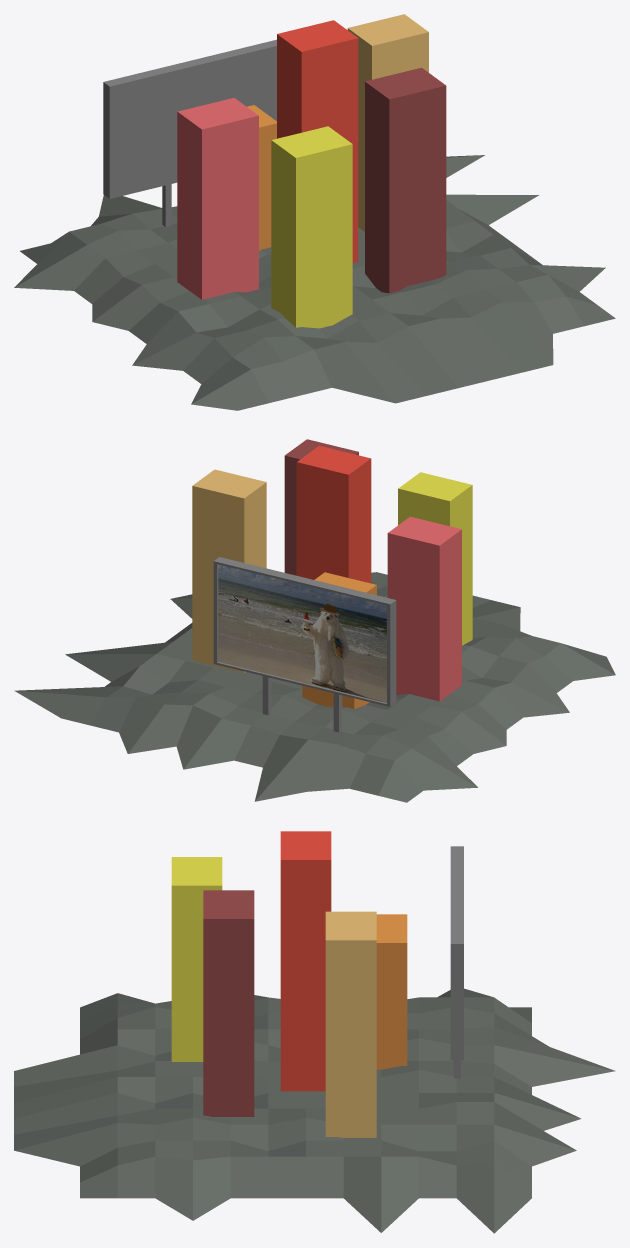
Rendered from building1.glb.
3 views of the same model, one above another, from view 1: azimuth 30°, elevation 25°; view 2: azimuth 150°, elevation 25°; view 3: azimuth 270°, elevation 25° (orthographic). The views are drawn at different scales.
Visible parts, largest first — view 1: Plane.002, Cube.001, Cube.003, Cube.002, Cube.008, Cube, Cube.004, Cube.005; view 2: Plane.002, Cube.008, Cube.002, Cube, Cube.004, Cube.003, Cube.001, Cube.005; view 3: Plane.002, Cube, Cube.001, Cube.004, Cube.003, Cube.005, Cube.008.
Boxes of the visible parts, left/top/right/bottom form: Plane.002: left=14, top=155, right=615, bottom=410; Cube.001: left=365, top=67, right=446, bottom=293; Cube.003: left=271, top=126, right=352, bottom=328; Cube.002: left=177, top=98, right=258, bottom=299; Cube.008: left=103, top=39, right=276, bottom=198; Cube: left=277, top=20, right=358, bottom=262; Cube.004: left=347, top=14, right=428, bottom=231; Cube.005: left=247, top=105, right=276, bottom=250; Plane.002: left=14, top=572, right=615, bottom=802; Cube.008: left=213, top=557, right=396, bottom=706; Cube.002: left=387, top=516, right=461, bottom=701; Cube: left=296, top=445, right=371, bottom=583; Cube.004: left=192, top=469, right=266, bottom=672; Cube.003: left=398, top=472, right=472, bottom=645; Cube.001: left=284, top=439, right=358, bottom=575; Cube.005: left=302, top=572, right=376, bottom=708; Plane.002: left=14, top=988, right=615, bottom=1233; Cube: left=280, top=831, right=331, bottom=1091; Cube.001: left=203, top=890, right=254, bottom=1116; Cube.004: left=325, top=911, right=376, bottom=1137; Cube.003: left=171, top=857, right=222, bottom=1061; Cube.005: left=376, top=914, right=407, bottom=1069; Cube.008: left=450, top=846, right=463, bottom=1060.
Bounding box in the file's own units: 163 × 89.55 × 168.
12 materials, 1 textured.
